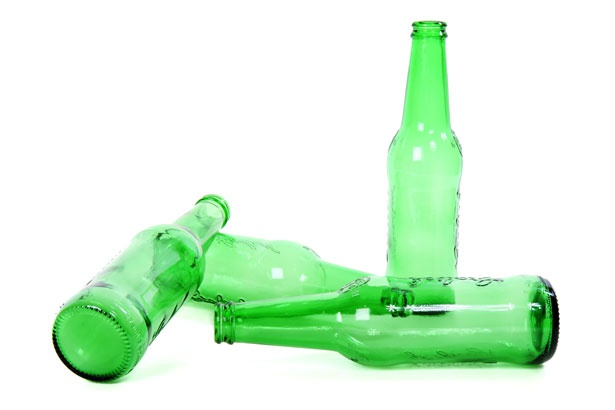emptybottle: (52, 194, 229, 382), (213, 277, 558, 368), (388, 21, 457, 315)
